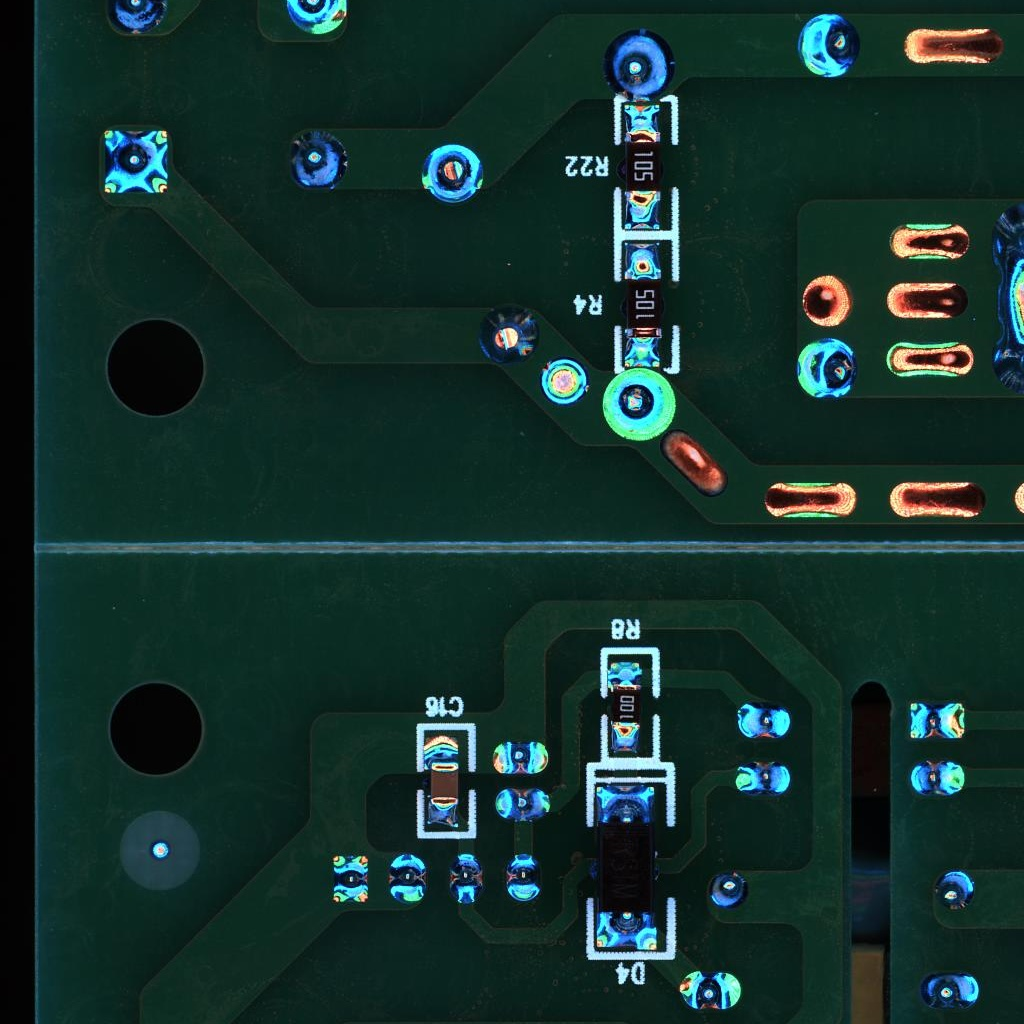spot: (599, 365, 677, 443), (601, 27, 675, 102), (98, 125, 173, 197), (794, 13, 861, 79), (473, 303, 539, 367), (417, 143, 486, 204), (794, 336, 859, 400), (284, 128, 348, 188), (675, 968, 745, 1014), (988, 325, 1024, 400), (922, 973, 987, 1011), (908, 700, 966, 742), (908, 757, 966, 799), (280, 1, 350, 35), (487, 740, 552, 776), (734, 700, 792, 740), (101, 1, 169, 35), (539, 357, 587, 405), (491, 787, 553, 823), (732, 760, 793, 796), (992, 204, 1024, 272), (387, 853, 428, 905), (331, 852, 370, 906), (447, 852, 484, 906), (502, 851, 541, 902), (932, 869, 977, 913), (708, 869, 749, 909)
